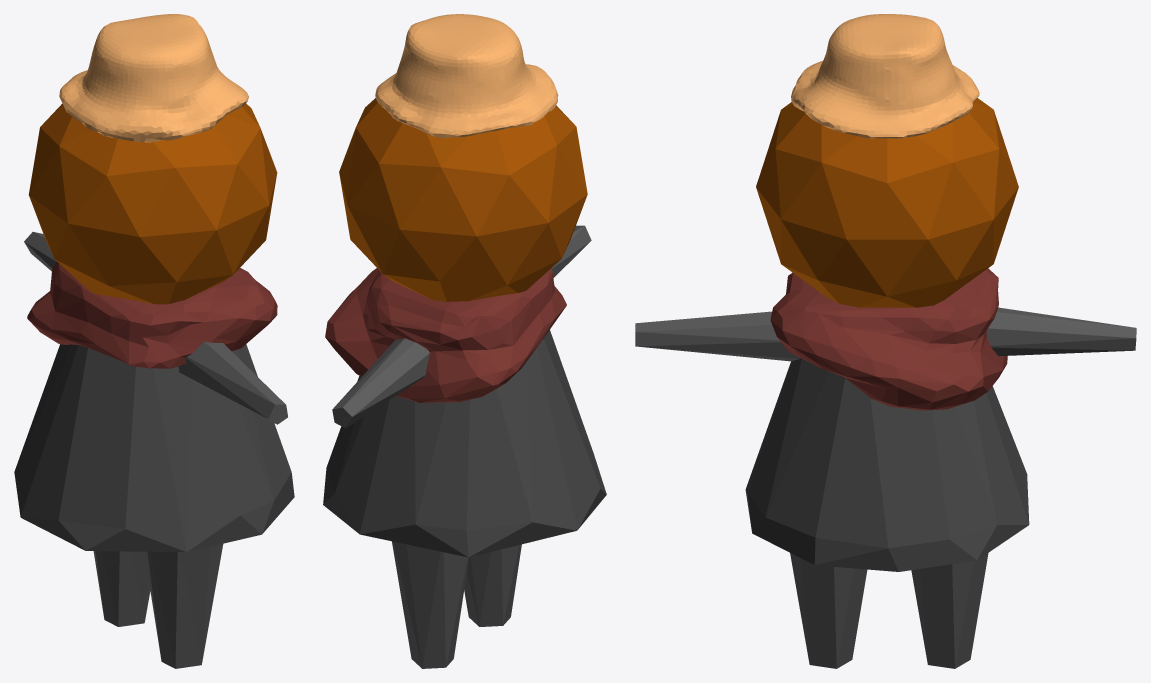
The model's file is Player.fbx.
3 views of the same model, side by side, from view 1: azimuth 30°, elevation 25°; view 2: azimuth 150°, elevation 25°; view 3: azimuth 270°, elevation 25° (orthographic). The views are drawn at different scales.
Parts seen in each view (by area): view 1: Cylinder, Icosphere, Cylinder.005, Cube, Cylinder.002, Cylinder.004, Cylinder.001, Cylinder.003; view 2: Cylinder, Icosphere, Cube, Cylinder.005, Cylinder.001, Cylinder.003, Cylinder.002, Cylinder.004; view 3: Cylinder, Icosphere, Cube, Cylinder.005, Cylinder.001, Cylinder.002, Cylinder.004, Cylinder.003.
Part boxes in pixels (box(x1,y1,x2,y2)): Cylinder: box(14, 344, 294, 552); Icosphere: box(28, 103, 277, 304); Cylinder.005: box(59, 14, 248, 142); Cube: box(27, 262, 277, 368); Cylinder.002: box(144, 544, 223, 668); Cylinder.004: box(178, 341, 287, 424); Cylinder.001: box(93, 551, 150, 626); Cylinder.003: box(24, 232, 56, 271); Cylinder: box(323, 330, 606, 557); Icosphere: box(339, 98, 587, 301); Cube: box(325, 268, 566, 402); Cylinder.005: box(375, 14, 558, 138); Cylinder.001: box(392, 541, 468, 668); Cylinder.003: box(332, 338, 429, 428); Cylinder.002: box(464, 544, 521, 626); Cylinder.004: box(551, 225, 591, 277); Cylinder: box(745, 358, 1029, 571); Icosphere: box(756, 98, 1018, 307); Cube: box(770, 268, 1007, 410); Cylinder.005: box(791, 14, 979, 138); Cylinder.001: box(911, 553, 988, 668); Cylinder.002: box(790, 553, 867, 668); Cylinder.004: box(635, 311, 799, 361); Cylinder.003: box(986, 307, 1136, 356).
Bounding box in the file's own units: 230 × 549 × 396.
